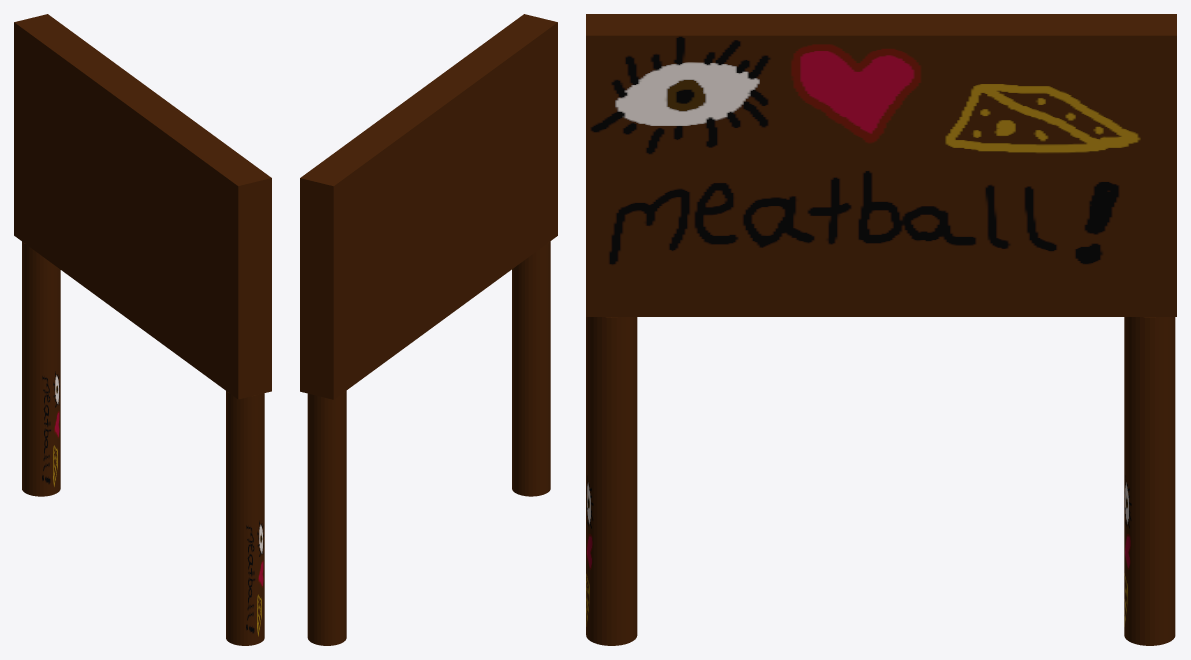
The model's file is billboard.glb.
3 views of the same model, side by side, from view 1: azimuth 30°, elevation 25°; view 2: azimuth 150°, elevation 25°; view 3: azimuth 270°, elevation 25° (orthographic). The views are drawn at different scales.
Visible parts, largest first — view 1: Cube.001; view 2: Cube.001; view 3: Cube.001.
Boxes of the visible parts, x1,y1,x2,y2 form: Cube.001: (14, 14, 271, 645); Cube.001: (300, 14, 557, 645); Cube.001: (586, 14, 1176, 645).
Size of the model in its own units: 2 by 26.27 by 23.05.
1 material, 1 textured.
